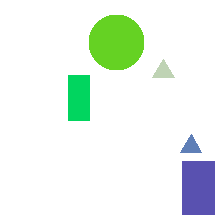circle: (89, 15, 143, 69)
rectangle: (182, 161, 214, 214), (68, 75, 89, 120)
triangle: (152, 59, 174, 77), (180, 134, 201, 152)
